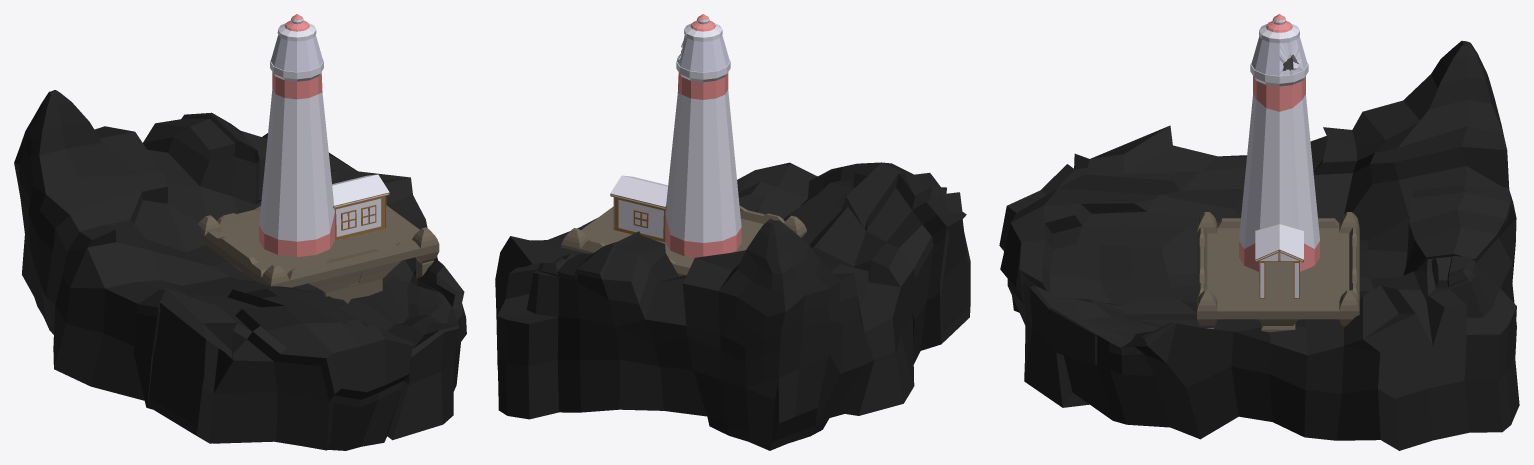
The model's file is Lighthouse.fbx.
3 renders of one model, left to right at view 1: azimuth 30°, elevation 25°; view 2: azimuth 150°, elevation 25°; view 3: azimuth 270°, elevation 25°, orthographic. The views are drawn at different scales.
Visible parts, largest first — view 1: Rocks, Lighthouse, Foundation, SideHouse; view 2: Rocks, Lighthouse, Foundation, SideHouse; view 3: Rocks, Lighthouse, Foundation, SideHouse.
Part boxes in pixels (bbox=[...]): Rocks: bbox=[14, 90, 466, 450]; Lighthouse: bbox=[259, 14, 334, 256]; Foundation: bbox=[198, 205, 439, 303]; SideHouse: bbox=[332, 174, 389, 240]; Rocks: bbox=[495, 162, 970, 450]; Lighthouse: bbox=[665, 14, 741, 257]; Foundation: bbox=[561, 206, 806, 276]; SideHouse: bbox=[610, 175, 667, 242]; Rocks: bbox=[999, 40, 1519, 450]; Lighthouse: bbox=[1239, 14, 1319, 271]; Foundation: bbox=[1197, 212, 1359, 332]; SideHouse: bbox=[1255, 224, 1303, 298].
Bounding box in the file's own units: 11459 × 10019 × 12801.
